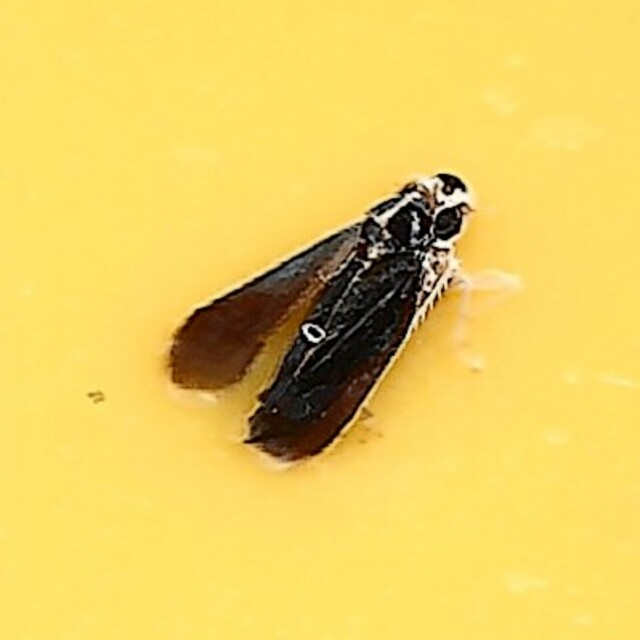Hemiptera: (160, 162, 480, 478)
